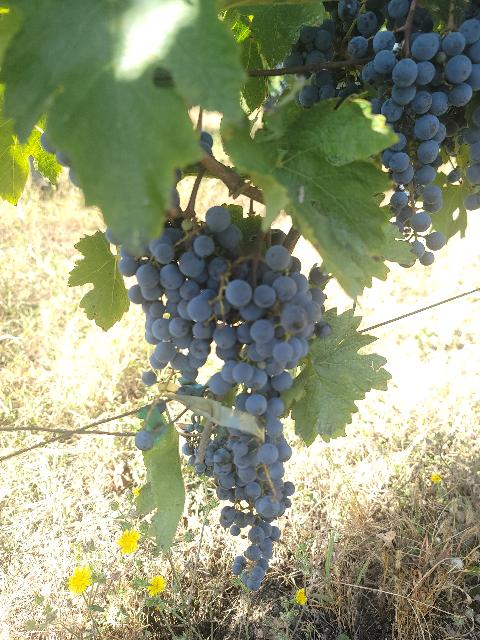grapes: (209, 245, 330, 428), (119, 206, 243, 381), (360, 30, 451, 265), (195, 418, 295, 591), (442, 19, 480, 106)
